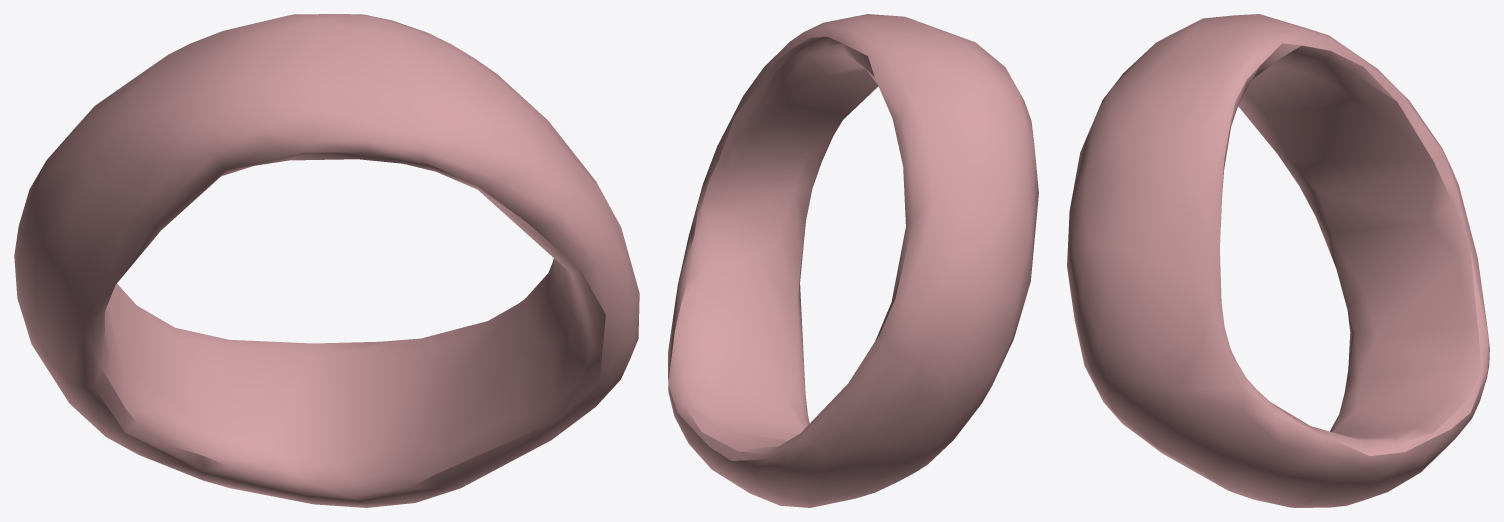
Rendered from fma49072_fj1342.glb.
3 renders of one model, left to right at view 1: azimuth 30°, elevation 25°; view 2: azimuth 150°, elevation 25°; view 3: azimuth 270°, elevation 25°, orthographic. The views are drawn at different scales.
Parts seen in each view (by area): view 1: FMA49072_FJ1342; view 2: FMA49072_FJ1342; view 3: FMA49072_FJ1342.
Boxes of the visible parts, x1,y1,x2,y2 form: FMA49072_FJ1342: (14,14,639,507); FMA49072_FJ1342: (668,14,1038,507); FMA49072_FJ1342: (1067,14,1489,507).
Size of the model in its own units: 0.00626 by 0.00667 by 0.0059.
